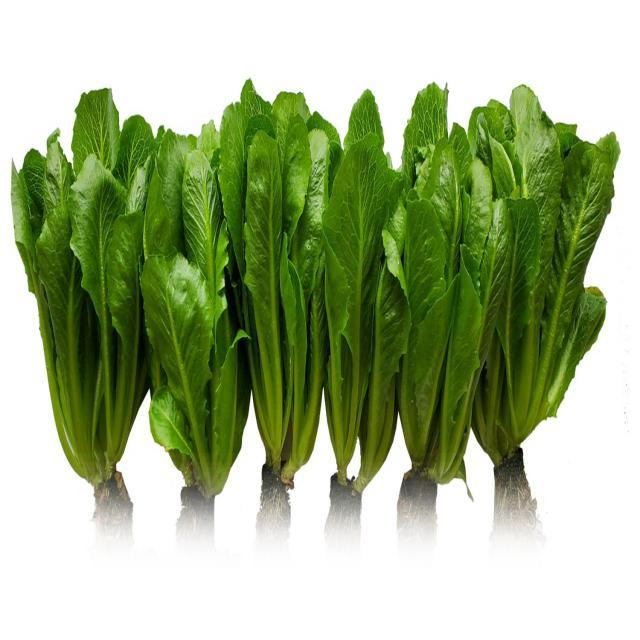Lettuce: (475, 86, 614, 478), (10, 89, 143, 487), (142, 111, 246, 497), (238, 82, 328, 496), (395, 81, 480, 490), (318, 88, 402, 496)
